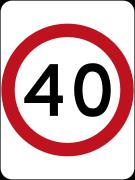Speed limit -40-: (13, 39, 125, 152)
